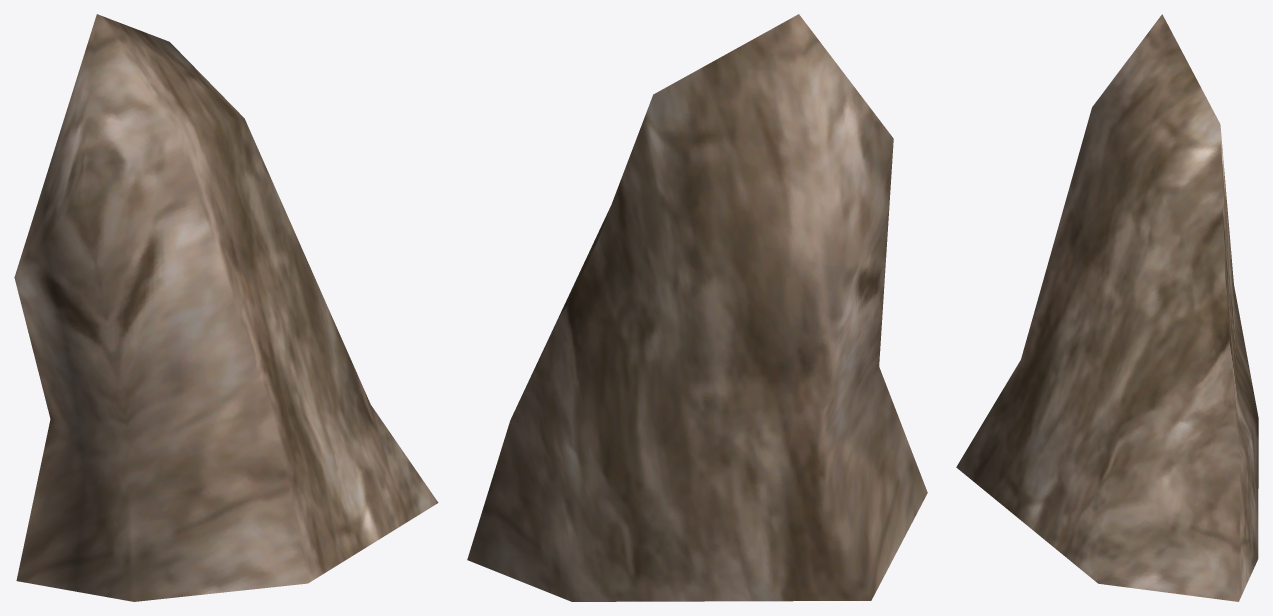
Rendered from OVERHILL_A_01_ROCK37.fbx.
3 renders of one model, left to right at view 1: azimuth 30°, elevation 25°; view 2: azimuth 150°, elevation 25°; view 3: azimuth 270°, elevation 25°, orthographic. The views are drawn at different scales.
Visible parts, largest first — view 1: OVERHILL_A_01_ROCK37; view 2: OVERHILL_A_01_ROCK37; view 3: OVERHILL_A_01_ROCK37.
Boxes of the visible parts, x1,y1,x2,y2 form: OVERHILL_A_01_ROCK37: (14,14,438,601); OVERHILL_A_01_ROCK37: (467,14,927,601); OVERHILL_A_01_ROCK37: (956,14,1258,601).
Bounding box in the file's own units: 35492 × 51307 × 29418.
1 material, 1 textured.
